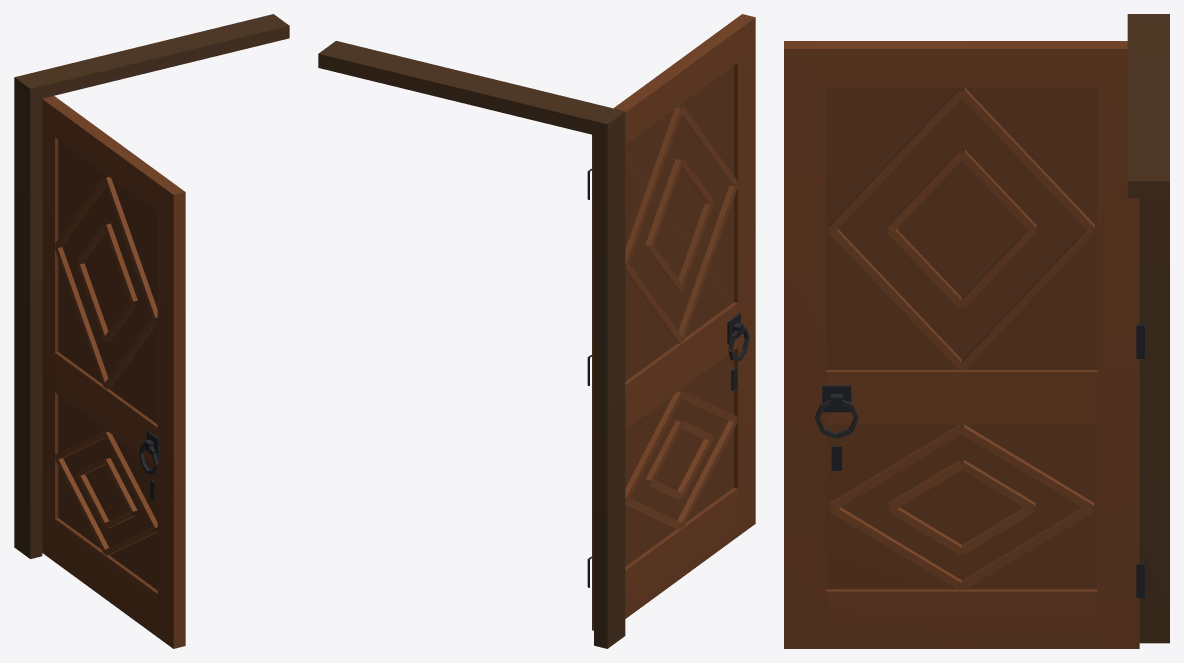
Rendered from door.oak_slim_open_pair.diamond.glb.
3 views of the same model, side by side, from view 1: azimuth 30°, elevation 25°; view 2: azimuth 150°, elevation 25°; view 3: azimuth 270°, elevation 25° (orthographic). The views are drawn at different scales.
Visible parts, largest first — view 1: door_oak_slim_open_pair_diamond; view 2: door_oak_slim_open_pair_diamond; view 3: door_oak_slim_open_pair_diamond.
Boxes of the visible parts, bbox=[...] form: door_oak_slim_open_pair_diamond: bbox=[14, 14, 289, 648]; door_oak_slim_open_pair_diamond: bbox=[318, 14, 755, 648]; door_oak_slim_open_pair_diamond: bbox=[784, 14, 1169, 648].
Size of what is drawn, in the model's own units: 1.5 by 2.6 by 1.46.
